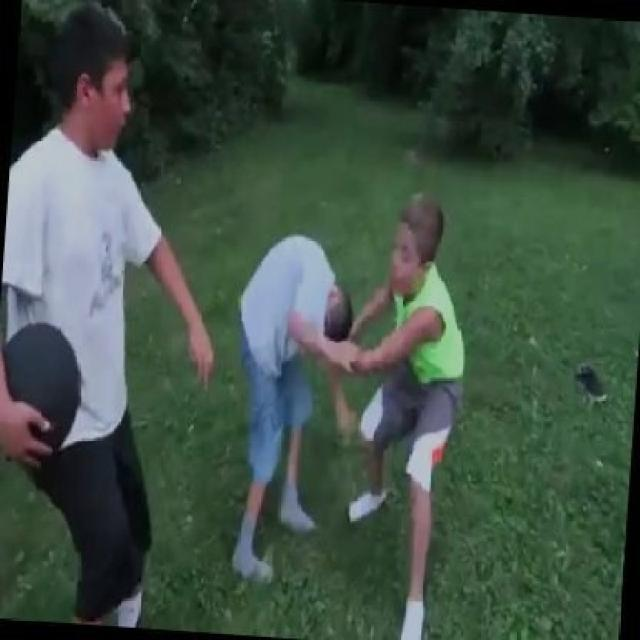fight: (238, 194, 464, 640)
non-fight: (0, 0, 209, 640)
